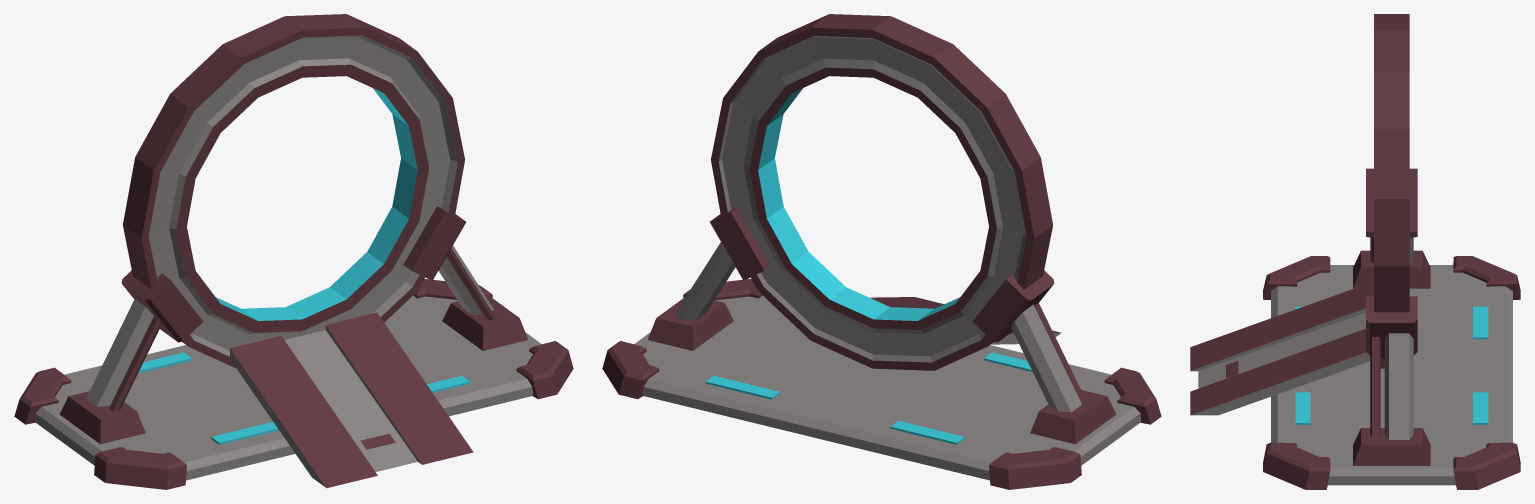
File: scifi-portal.fbx
3 renders of one model, left to right at view 1: azimuth 30°, elevation 25°; view 2: azimuth 150°, elevation 25°; view 3: azimuth 270°, elevation 25°, orthographic. The views are drawn at different scales.
Parts seen in each view (by area): view 1: scifi-portal; view 2: scifi-portal; view 3: scifi-portal.
Boxes of the visible parts, bbox=[...] form: scifi-portal: bbox=[14, 14, 573, 489]; scifi-portal: bbox=[602, 14, 1161, 489]; scifi-portal: bbox=[1190, 14, 1520, 489].
Size of the model in its own units: 6.37 by 4.8 by 4.1.
